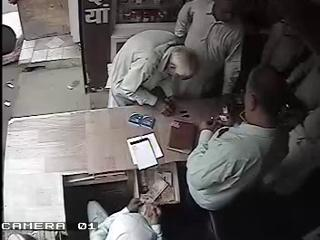Normal: (186, 64, 294, 238), (106, 29, 203, 115), (172, 0, 245, 107), (88, 198, 164, 240)
